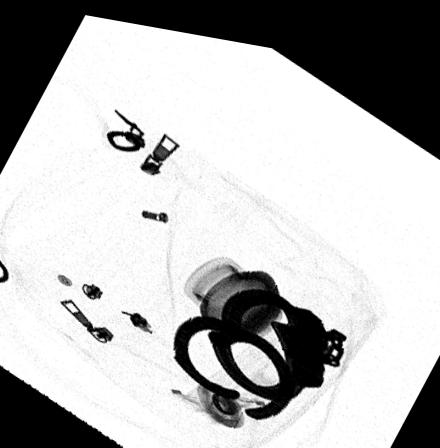HandCuffs: (169, 278, 353, 415)
